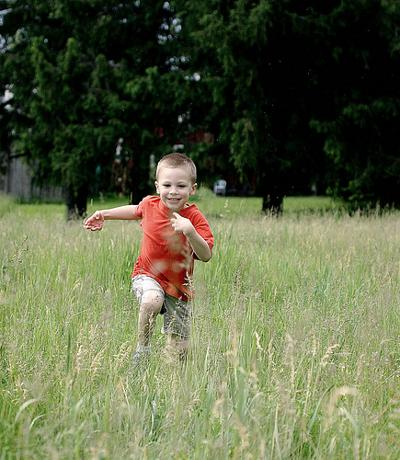person: (85, 154, 215, 368)
